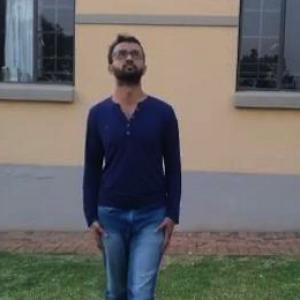follow: (75, 23, 187, 299)
